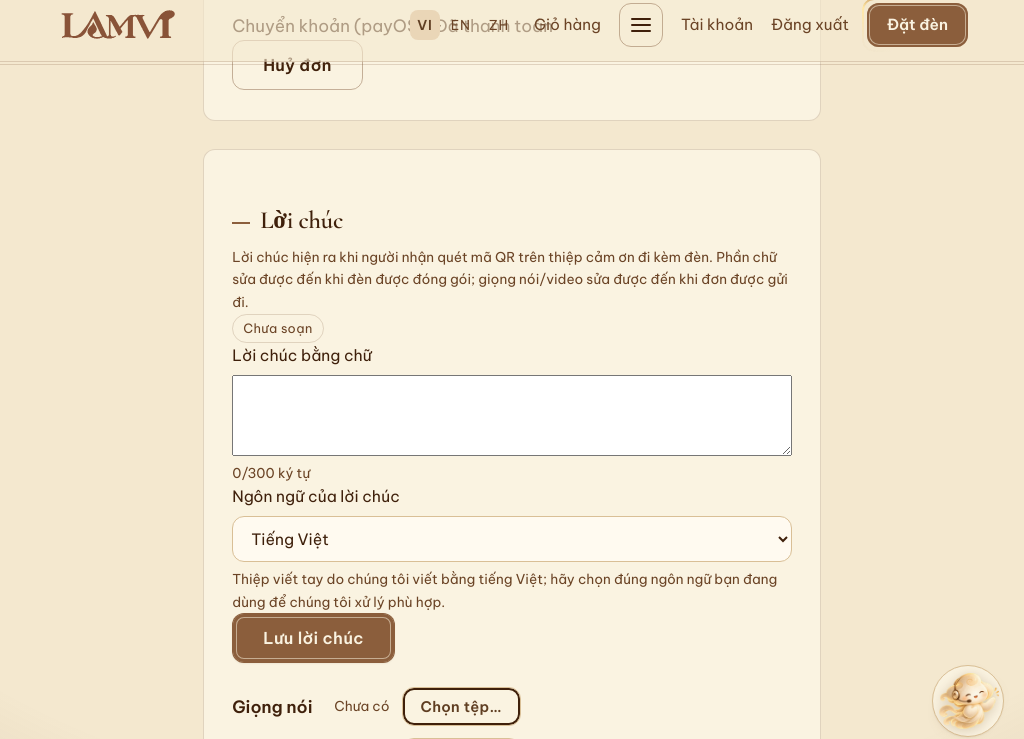
Khung soạn lời chúc › lỗi server (quá dài) hiện ngay dưới ô
(page scrolled)
Type "x" into the text box labelled "Lời chúc bằng chữ" at (512, 416), box [232, 375, 792, 456]
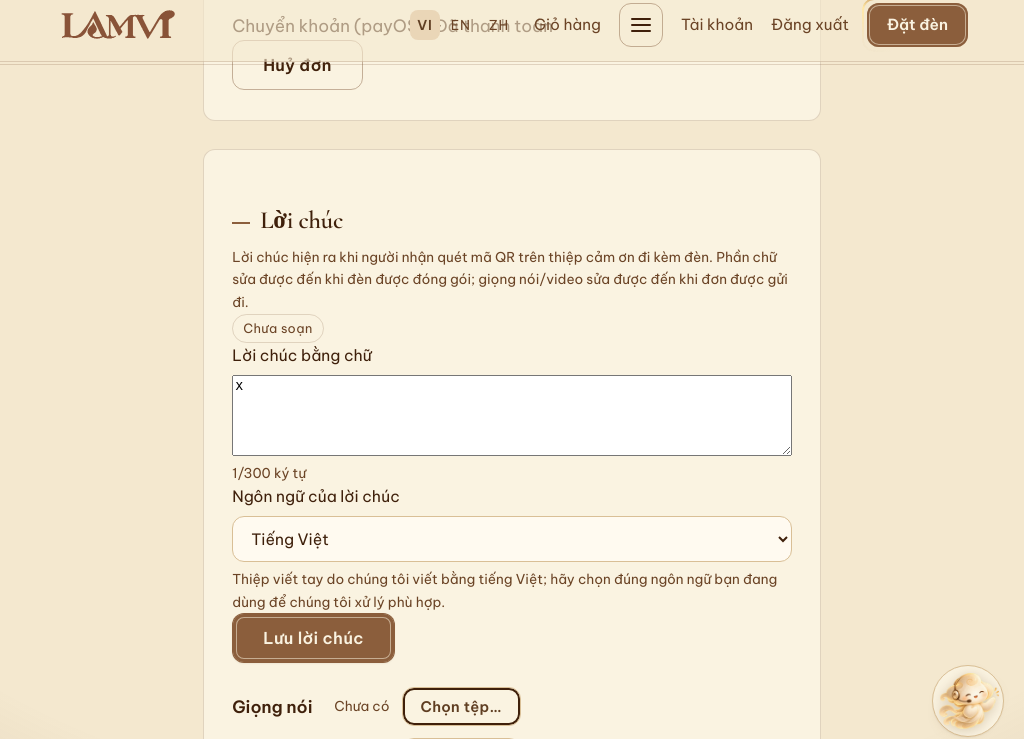
Click the button "Lưu lời chúc" at (314, 638), box [232, 613, 395, 663]
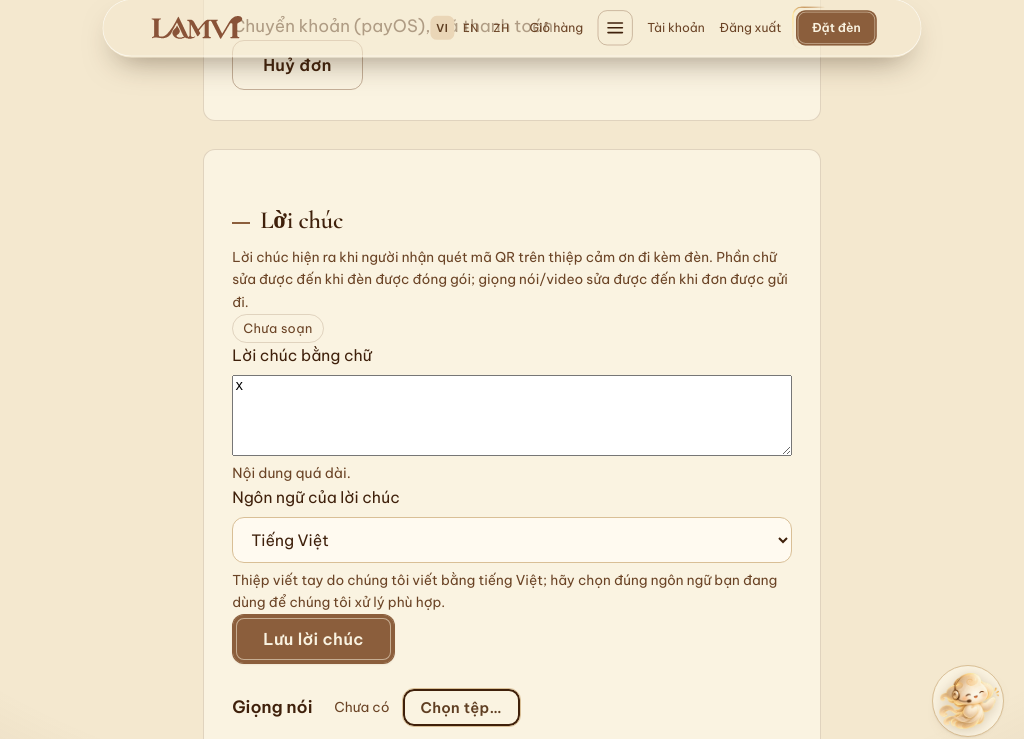
Expected: the text "Nội dung quá dài." is shown, [232, 464, 351, 482]
